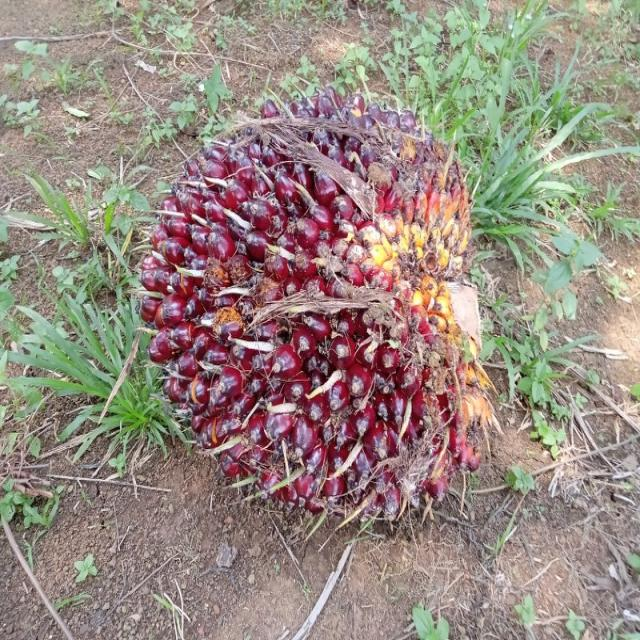fraksi 1: (112, 37, 527, 560)
